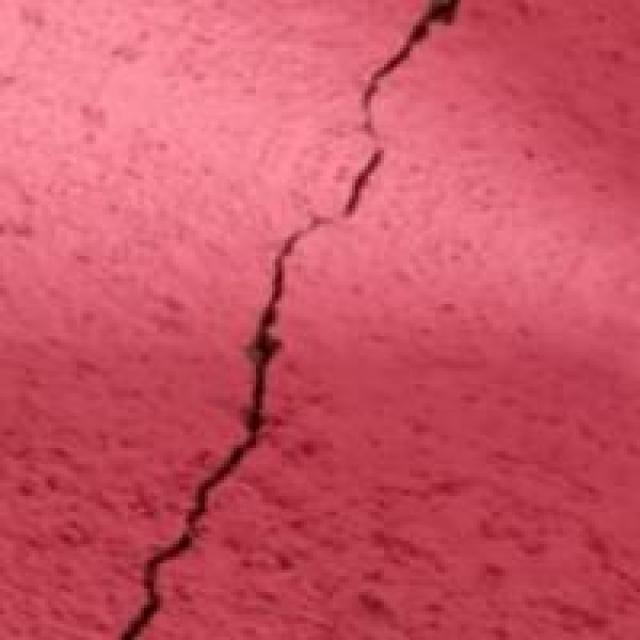Crack: (45, 0, 496, 637)
